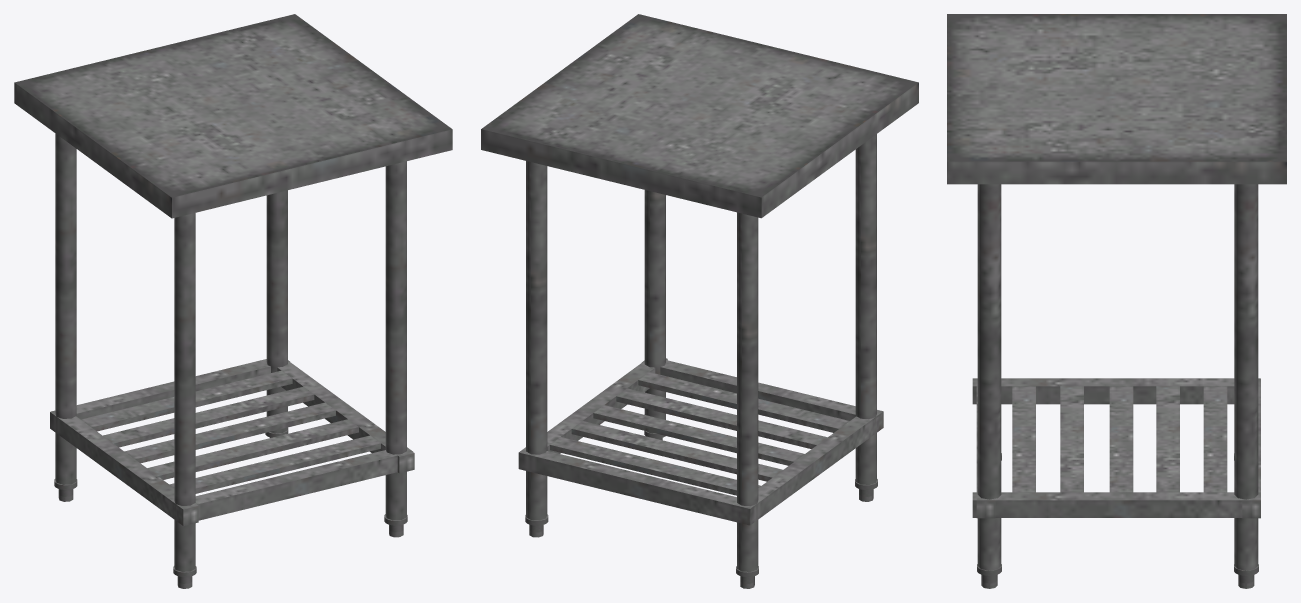
The model's file is 166_StainLessTable.fbx.
3 views of the same model, side by side, from view 1: azimuth 30°, elevation 25°; view 2: azimuth 150°, elevation 25°; view 3: azimuth 270°, elevation 25° (orthographic). The views are drawn at different scales.
Visible parts, largest first — view 1: LOD_1_Group_0_Sub_1__sm30_166_StainlessTable01A_A_Mat; view 2: LOD_1_Group_0_Sub_1__sm30_166_StainlessTable01A_A_Mat; view 3: LOD_1_Group_0_Sub_1__sm30_166_StainlessTable01A_A_Mat.
Boxes of the visible parts, <box> form: LOD_1_Group_0_Sub_1__sm30_166_StainlessTable01A_A_Mat: <box>14,14,452,588</box>; LOD_1_Group_0_Sub_1__sm30_166_StainlessTable01A_A_Mat: <box>481,14,918,588</box>; LOD_1_Group_0_Sub_1__sm30_166_StainlessTable01A_A_Mat: <box>947,14,1286,588</box>.
Bounding box in the file's own units: 0.5834 × 0.8154 × 0.5669.
